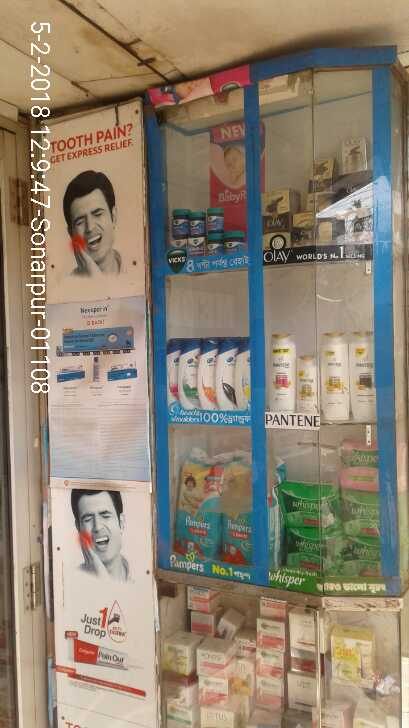vicks: (173, 206, 250, 262)
